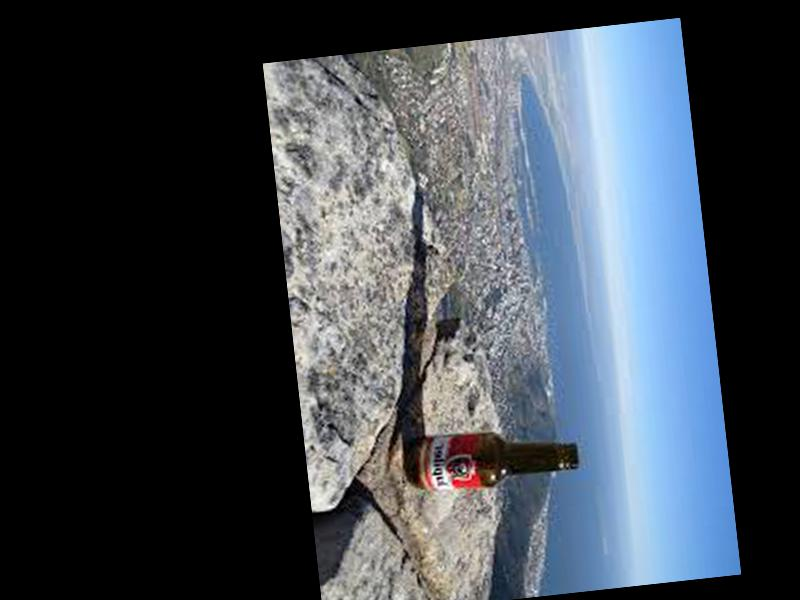Beer: (408, 420, 582, 496)
